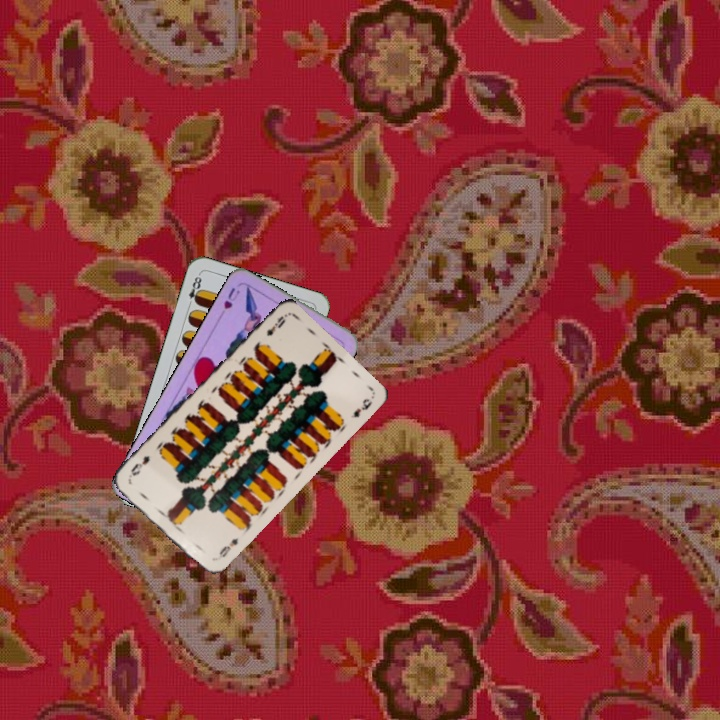E8: (184, 270, 204, 310)
E9: (211, 534, 241, 563), (262, 312, 289, 339)
HU: (219, 283, 242, 312)
